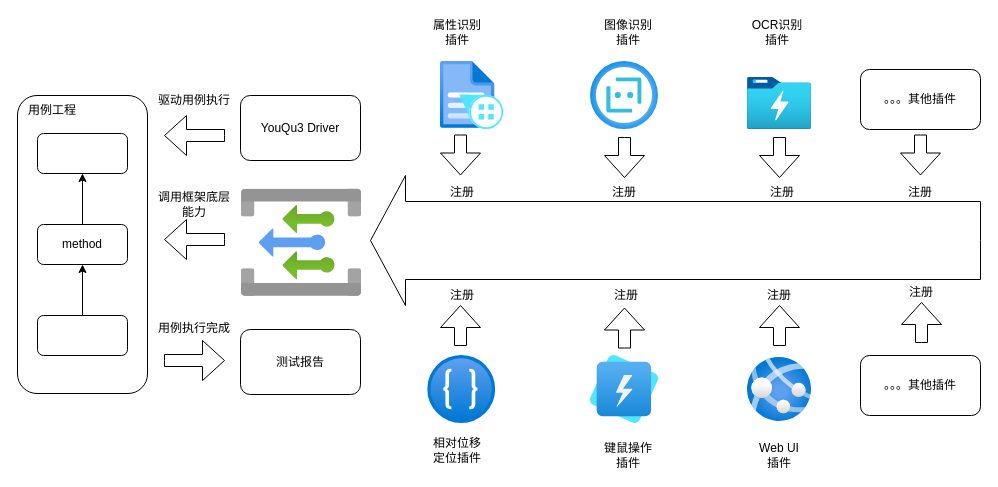
The diagram is 998 pixels wide and 487 high, and some of its shapes have lost their labels. Here are the shapes that lost their labels. From the top down, the centre of each, then its label:
(x=82, y=153): case
(x=82, y=335): config
